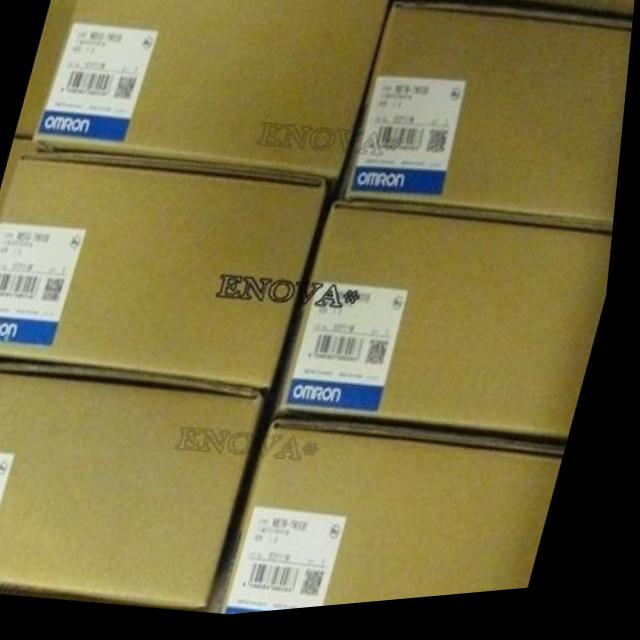box: (276, 205, 619, 464), (0, 157, 336, 397), (35, 0, 390, 203), (0, 369, 284, 616), (337, 9, 634, 239), (231, 424, 572, 618)
